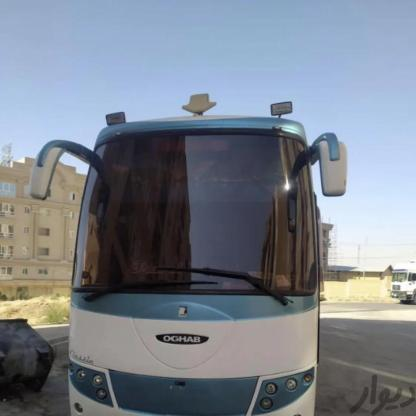Bus: (61, 102, 340, 416)
Truck: (383, 262, 416, 314)
